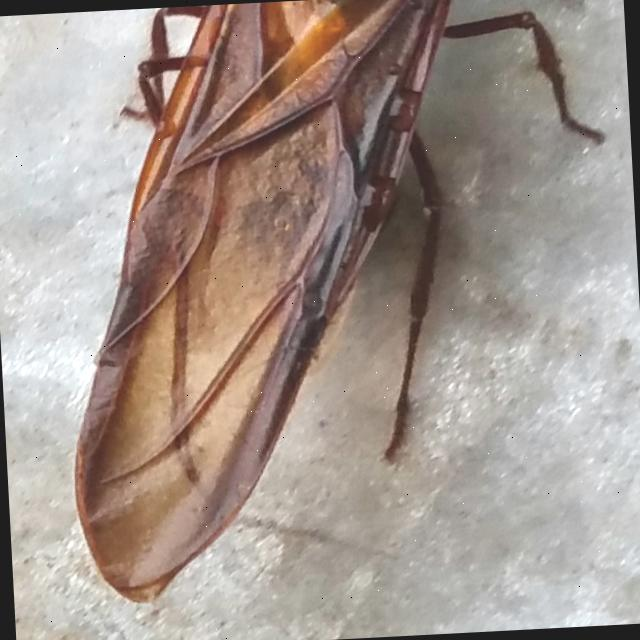Alive-Female-Alate: (48, 0, 630, 611)
